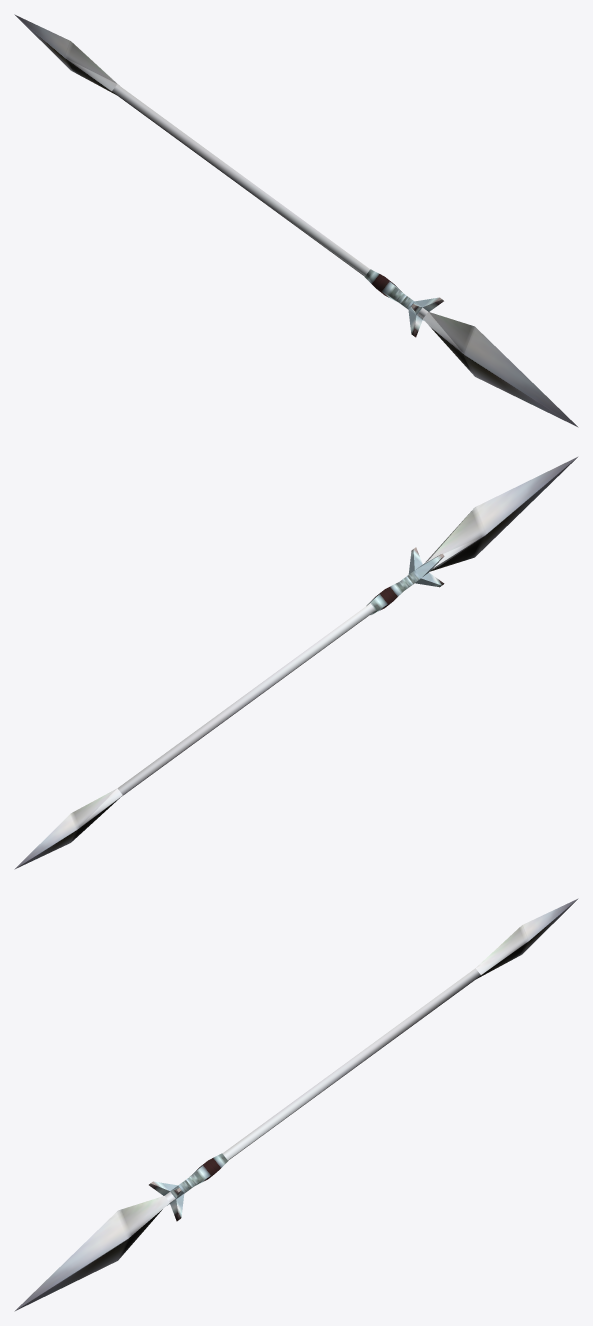
File: hezhuimao.fbx
3 renders of one model, top to bottom at view 1: azimuth 30°, elevation 25°; view 2: azimuth 150°, elevation 25°; view 3: azimuth 330°, elevation 25°, orthographic.
Visible parts, largest first — view 1: Spear02; view 2: Spear02; view 3: Spear02.
Part boxes in pixels (left/top/right/bottom): Spear02: left=14, top=14, right=578, bottom=427; Spear02: left=14, top=456, right=578, bottom=869; Spear02: left=14, top=898, right=578, bottom=1311.
Size of the model in its own units: 27.13 by 42.84 by 872.
